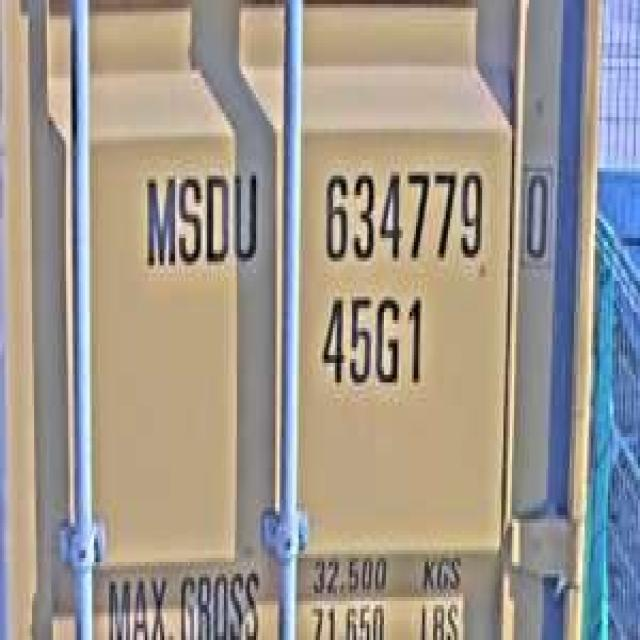dv: (518, 152, 555, 266)
owner: (136, 160, 264, 277)
serial: (316, 152, 488, 273)
size: (314, 281, 428, 398)
